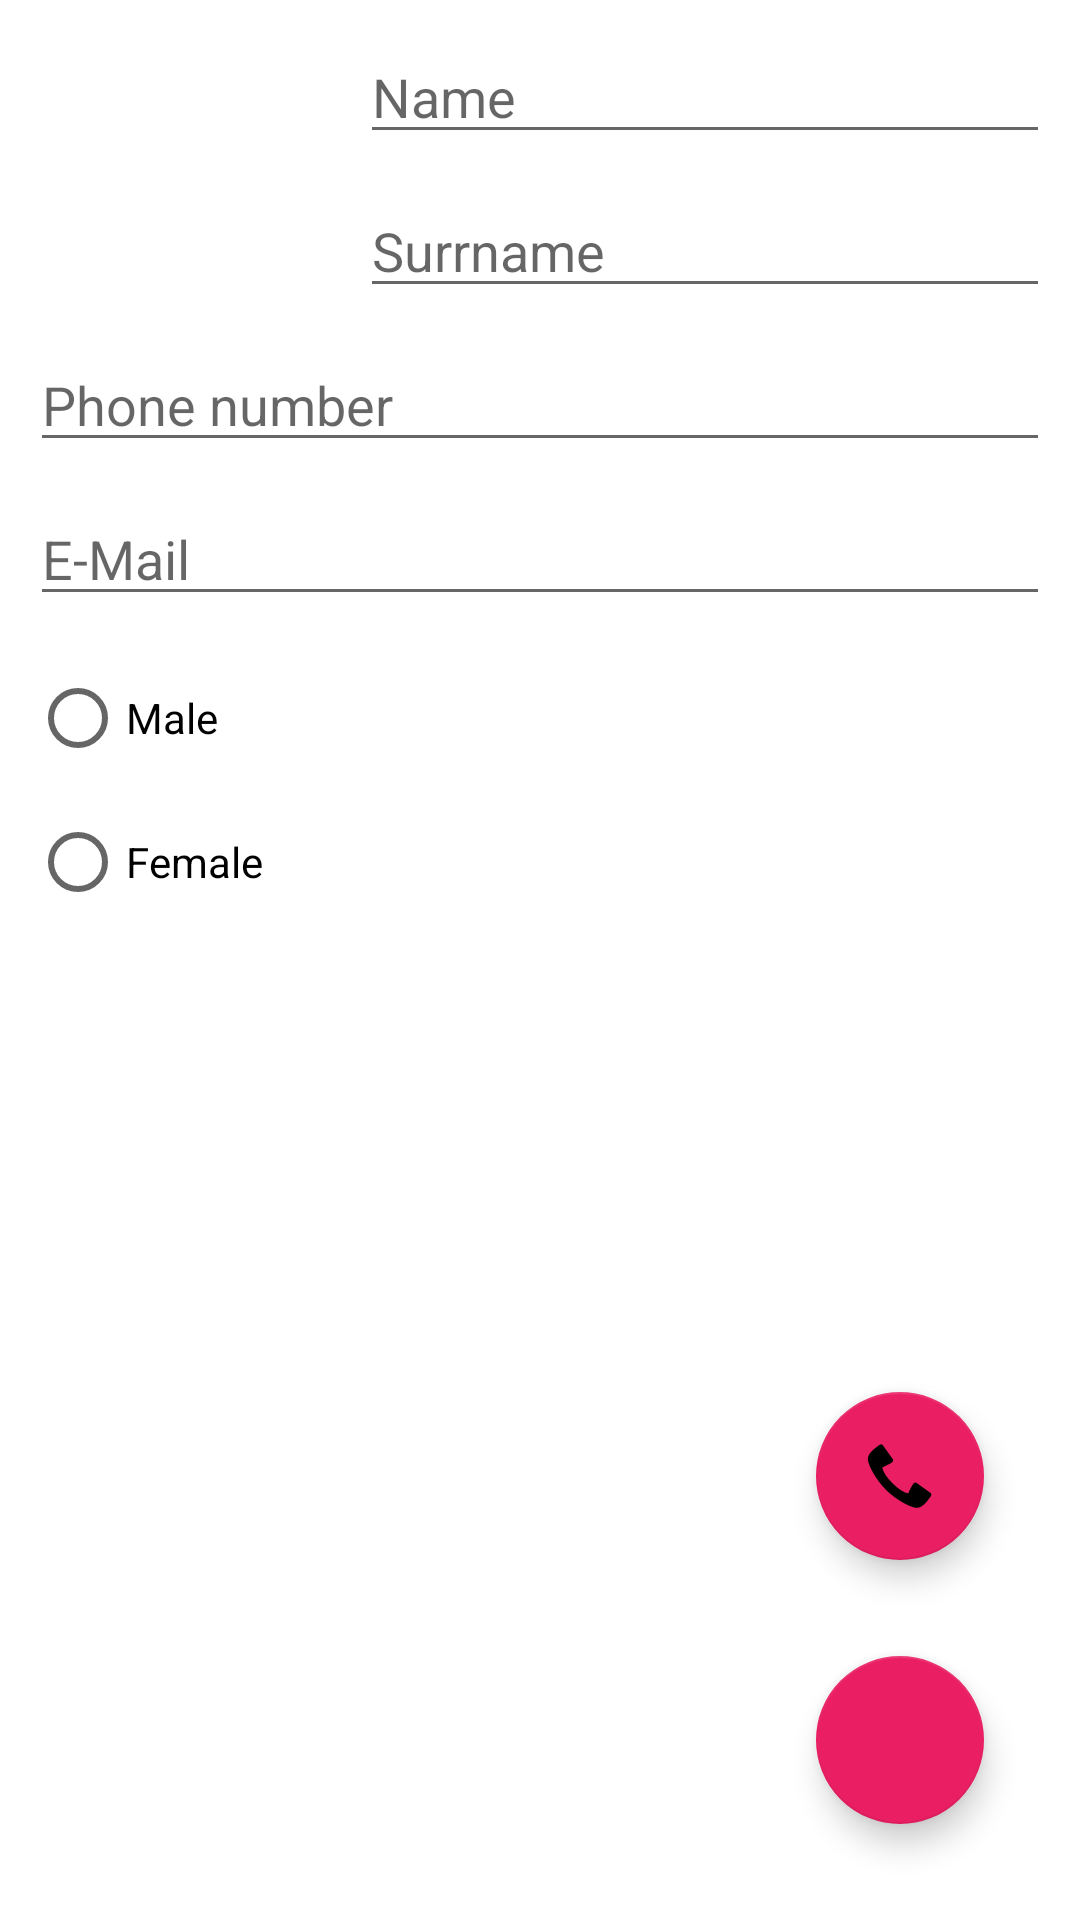

Named icons in this screenshot (1080x1920) and their bounding boxes, (x1, y1, x2, y2):
phone call: (816, 1392, 984, 1560)
